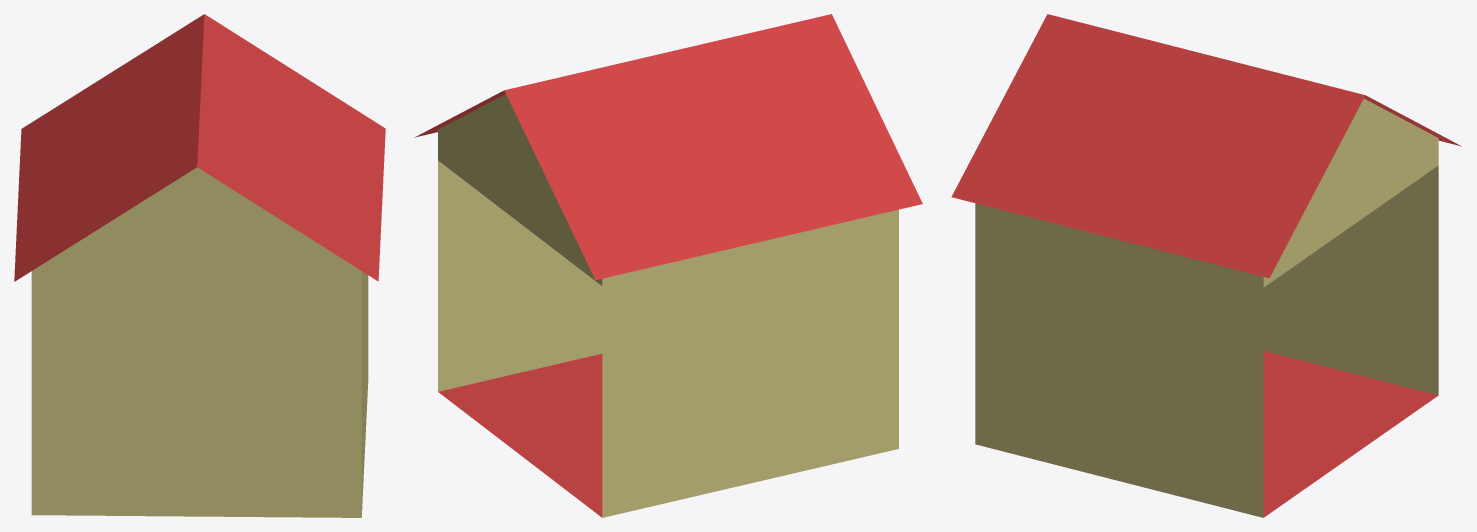
The picture shows the model from 3 angles, left to right: view 1: azimuth 30°, elevation 25°; view 2: azimuth 150°, elevation 25°; view 3: azimuth 270°, elevation 25°; orthographic projection. The views are drawn at different scales.
Bounding box in the file's own units: 14.61 × 14.59 × 11.52.
